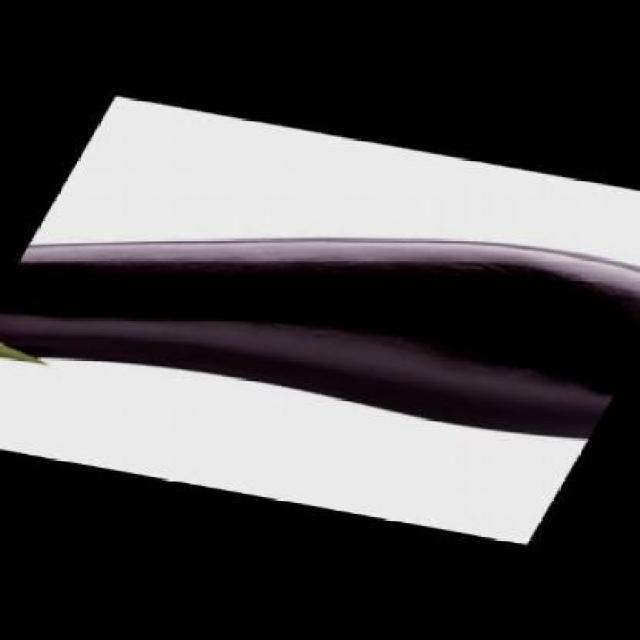eggplant: (0, 231, 640, 446)
